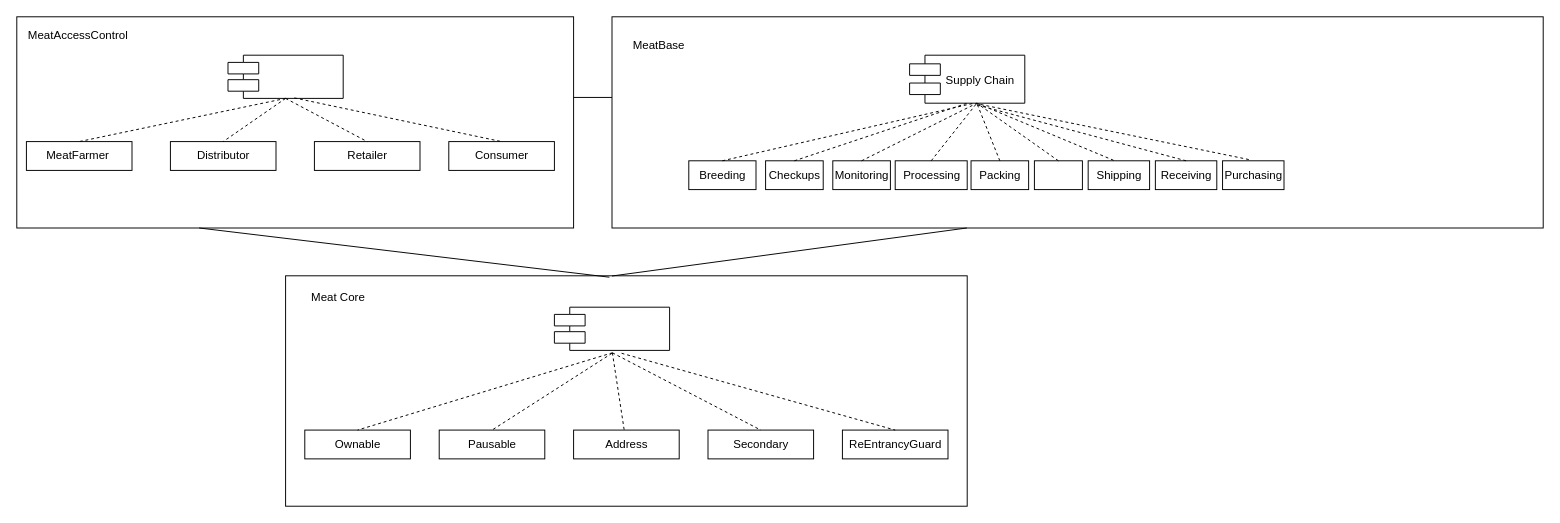
Some shapes in this 1560 by 523 pixel diagram are drawn without their labels. The shapes that lost their labels are listed below. From the top down, each one's centre as x and y in pixels, then its label:
At (x=285, y=76): "Roles".
At (x=1057, y=175): "Buying".
At (x=611, y=328): "Value Chain".
